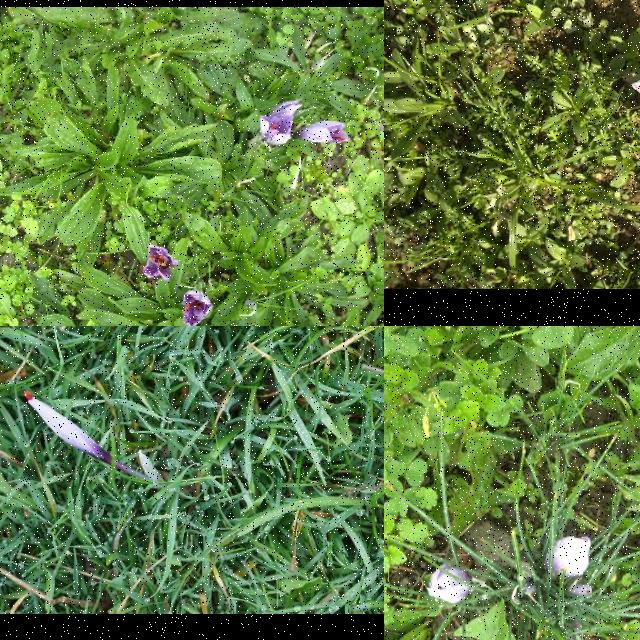flower: (22, 390, 110, 462), (544, 536, 592, 578), (428, 564, 472, 604), (143, 244, 177, 282), (180, 291, 215, 326), (300, 121, 348, 142)
overlap: (258, 100, 304, 146)
